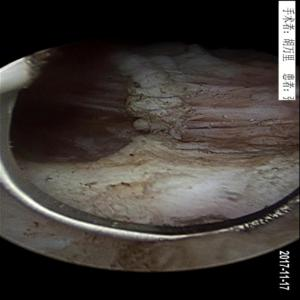film: (16, 66, 289, 177)
